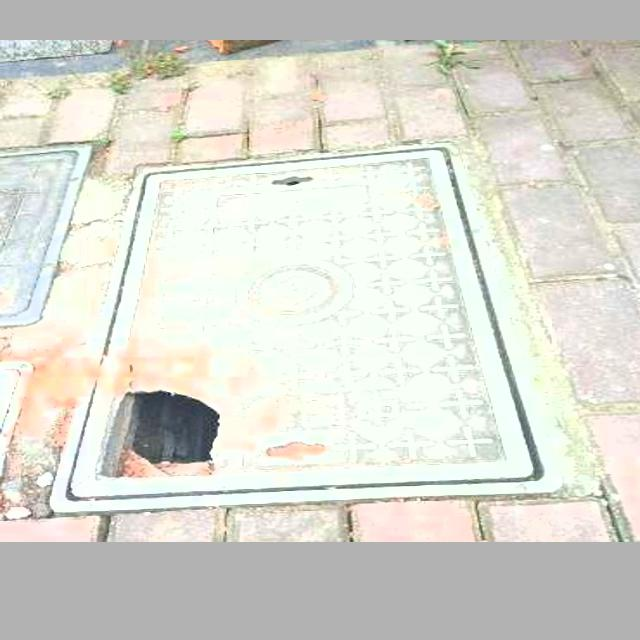broke: (48, 140, 567, 513)
